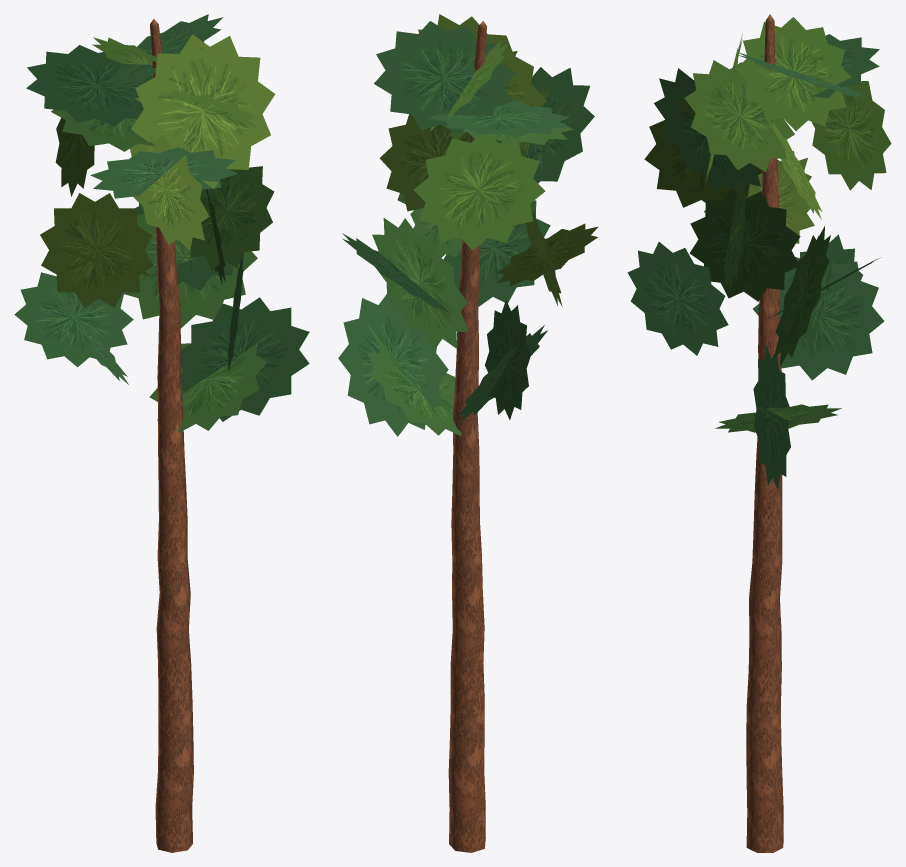
Rendered from hero_pine_a_lod1.obj.
3 renders of one model, left to right at view 1: azimuth 30°, elevation 25°; view 2: azimuth 150°, elevation 25°; view 3: azimuth 270°, elevation 25°, orthographic.
Visible parts, largest first — view 1: hero_pine_a_lod1; view 2: hero_pine_a_lod1; view 3: hero_pine_a_lod1.
Boxes of the visible parts, left/top/right/bottom form: hero_pine_a_lod1: left=14, top=14, right=309, bottom=852; hero_pine_a_lod1: left=338, top=14, right=598, bottom=852; hero_pine_a_lod1: left=627, top=14, right=891, bottom=852.
Size of the model in its own units: 5.55 by 17.29 by 5.02.
2 materials, 2 textured.
